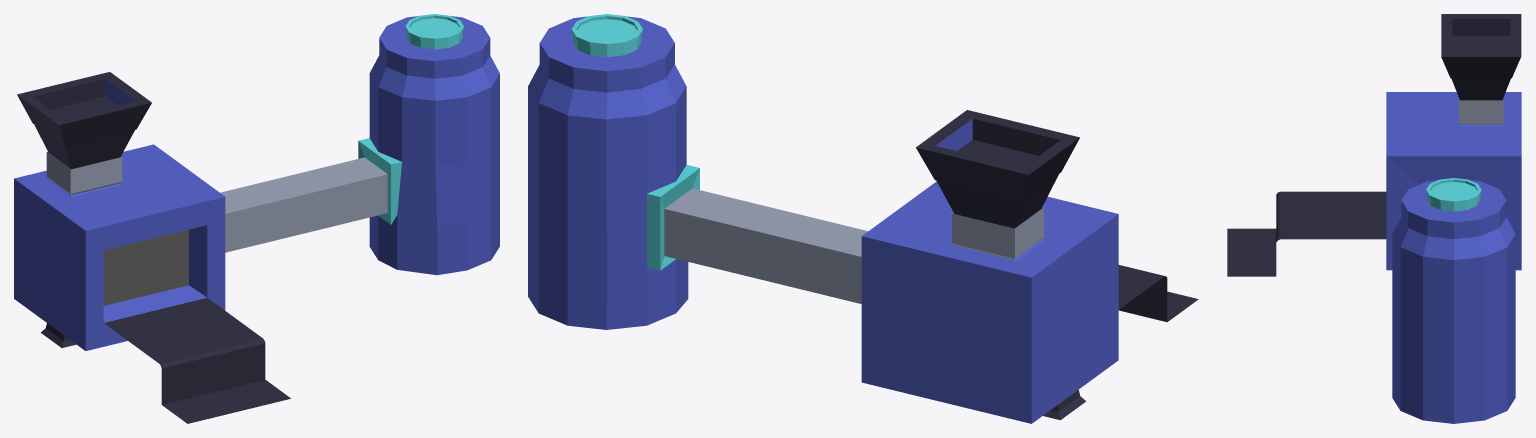
Rendered from Mach-6.FBX.
3 views of the same model, side by side, from view 1: azimuth 30°, elevation 25°; view 2: azimuth 150°, elevation 25°; view 3: azimuth 270°, elevation 25° (orthographic). The views are drawn at different scales.
Visible parts, largest first — view 1: Cylinder002; view 2: Cylinder002; view 3: Cylinder002.
Boxes of the visible parts, box(x1,y1,x2,y2) form: Cylinder002: box(14, 14, 499, 423); Cylinder002: box(528, 14, 1198, 423); Cylinder002: box(1227, 14, 1521, 423).
Size of the model in its own units: 4.47 by 2.14 by 2.73.
